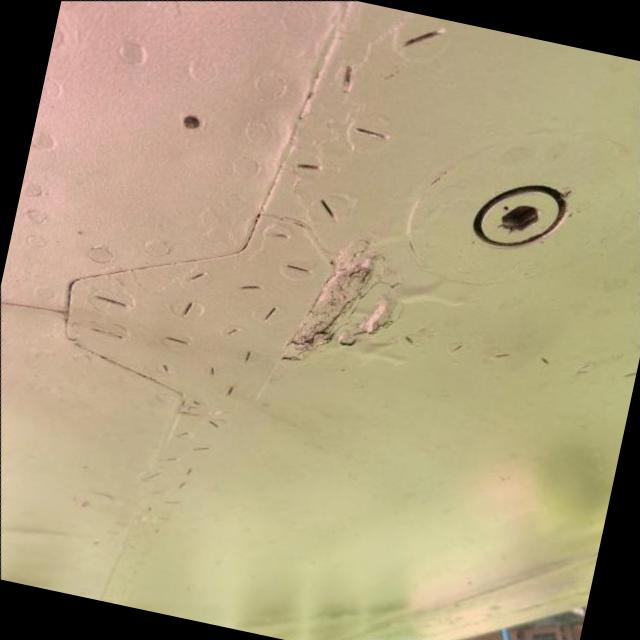Missing Fastener: (167, 106, 213, 140)
